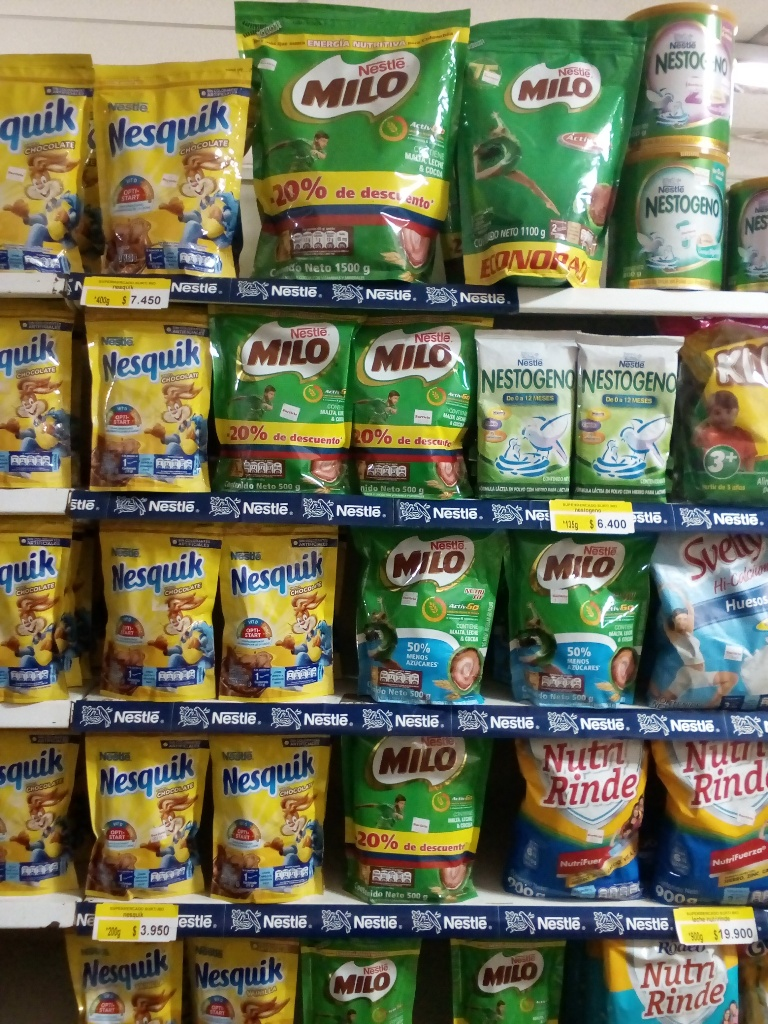COL0170203DYP50000: (337, 726, 498, 916)
COL0170205DYP50000: (357, 531, 507, 699)
COL0170303DYP20000: (219, 731, 339, 898)
